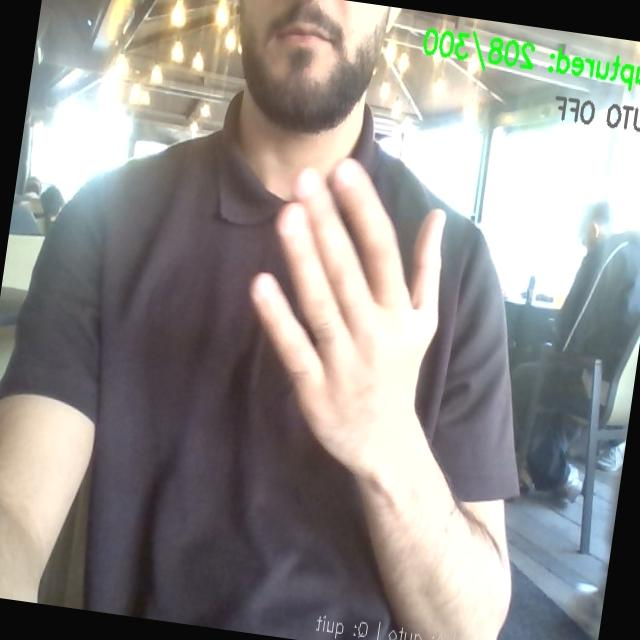Hand: (251, 159, 444, 473)
